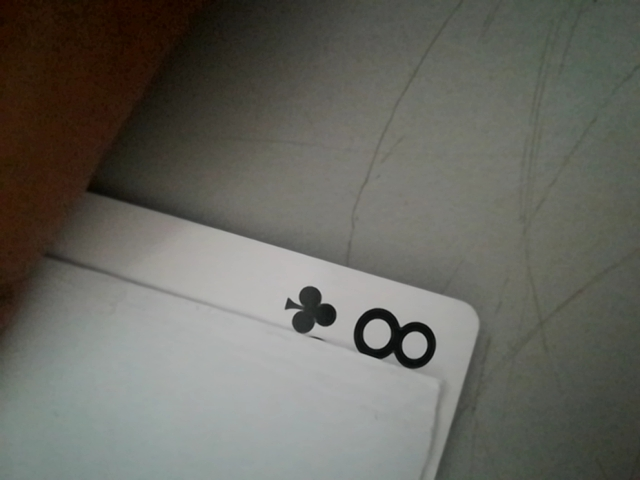mh 8: (272, 274, 457, 379)
